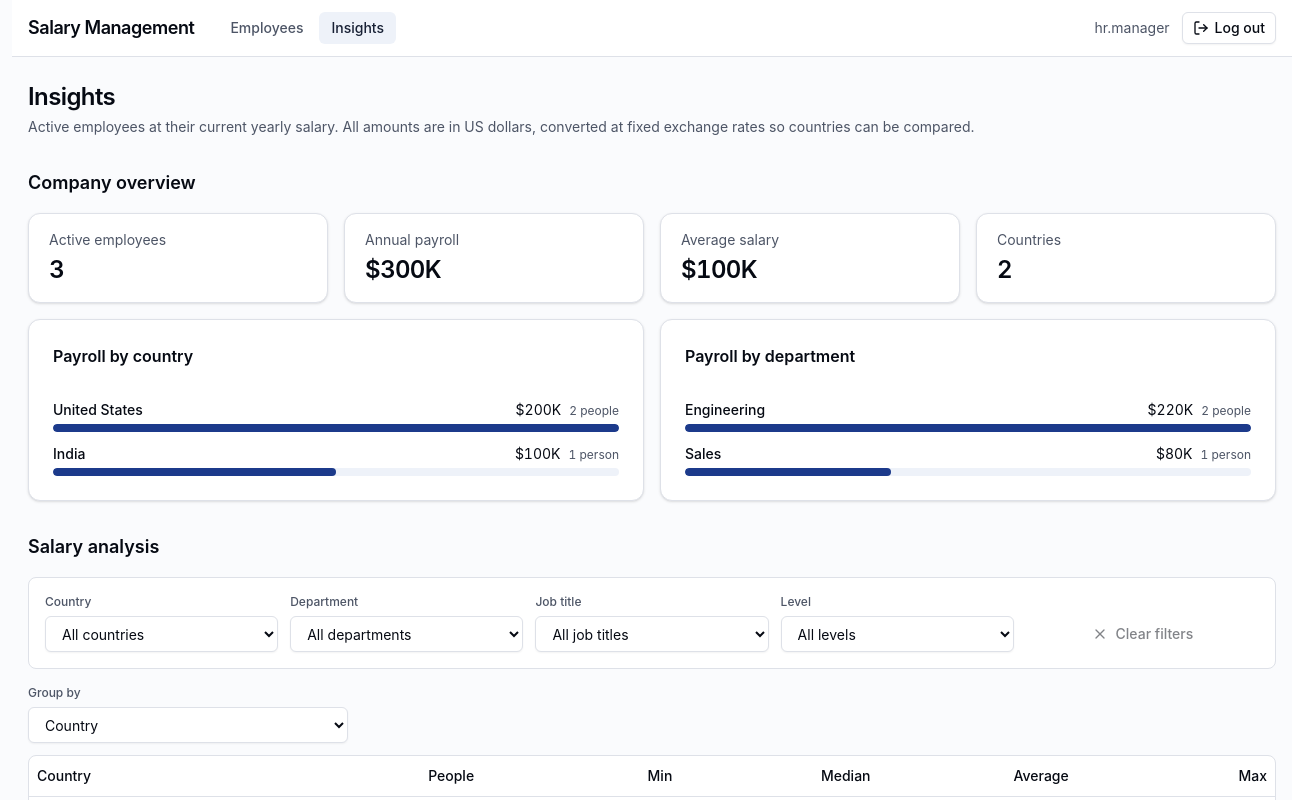
Test case: insights page › salary analysis › regroups when another grouping is chosen, and puts it in the address
The width and height of the screenshot is (1292, 800).
Select "Department" in the dropdown labelled "Group by" at coordinates (188, 725), box left=28, top=707, right=348, bottom=743
(page scrolled)
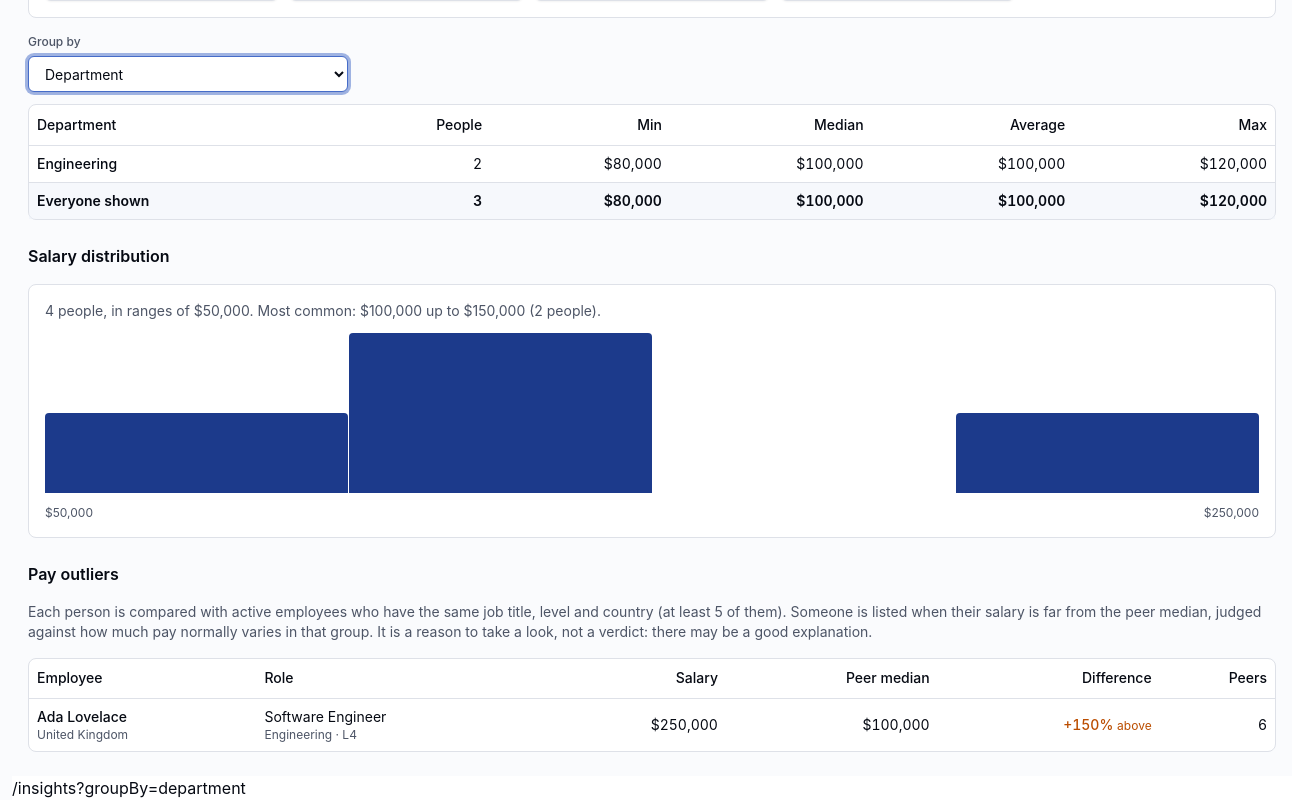
Now the cell "Engineering" is shown, box left=29, top=145, right=340, bottom=182
Now the text with test id "location" reads "/insights?groupBy=department", box left=12, top=778, right=246, bottom=798
